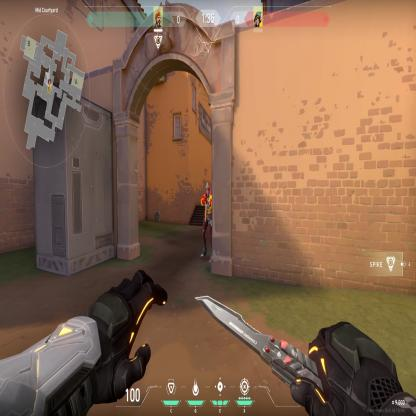enemy: (200, 180, 213, 266)
